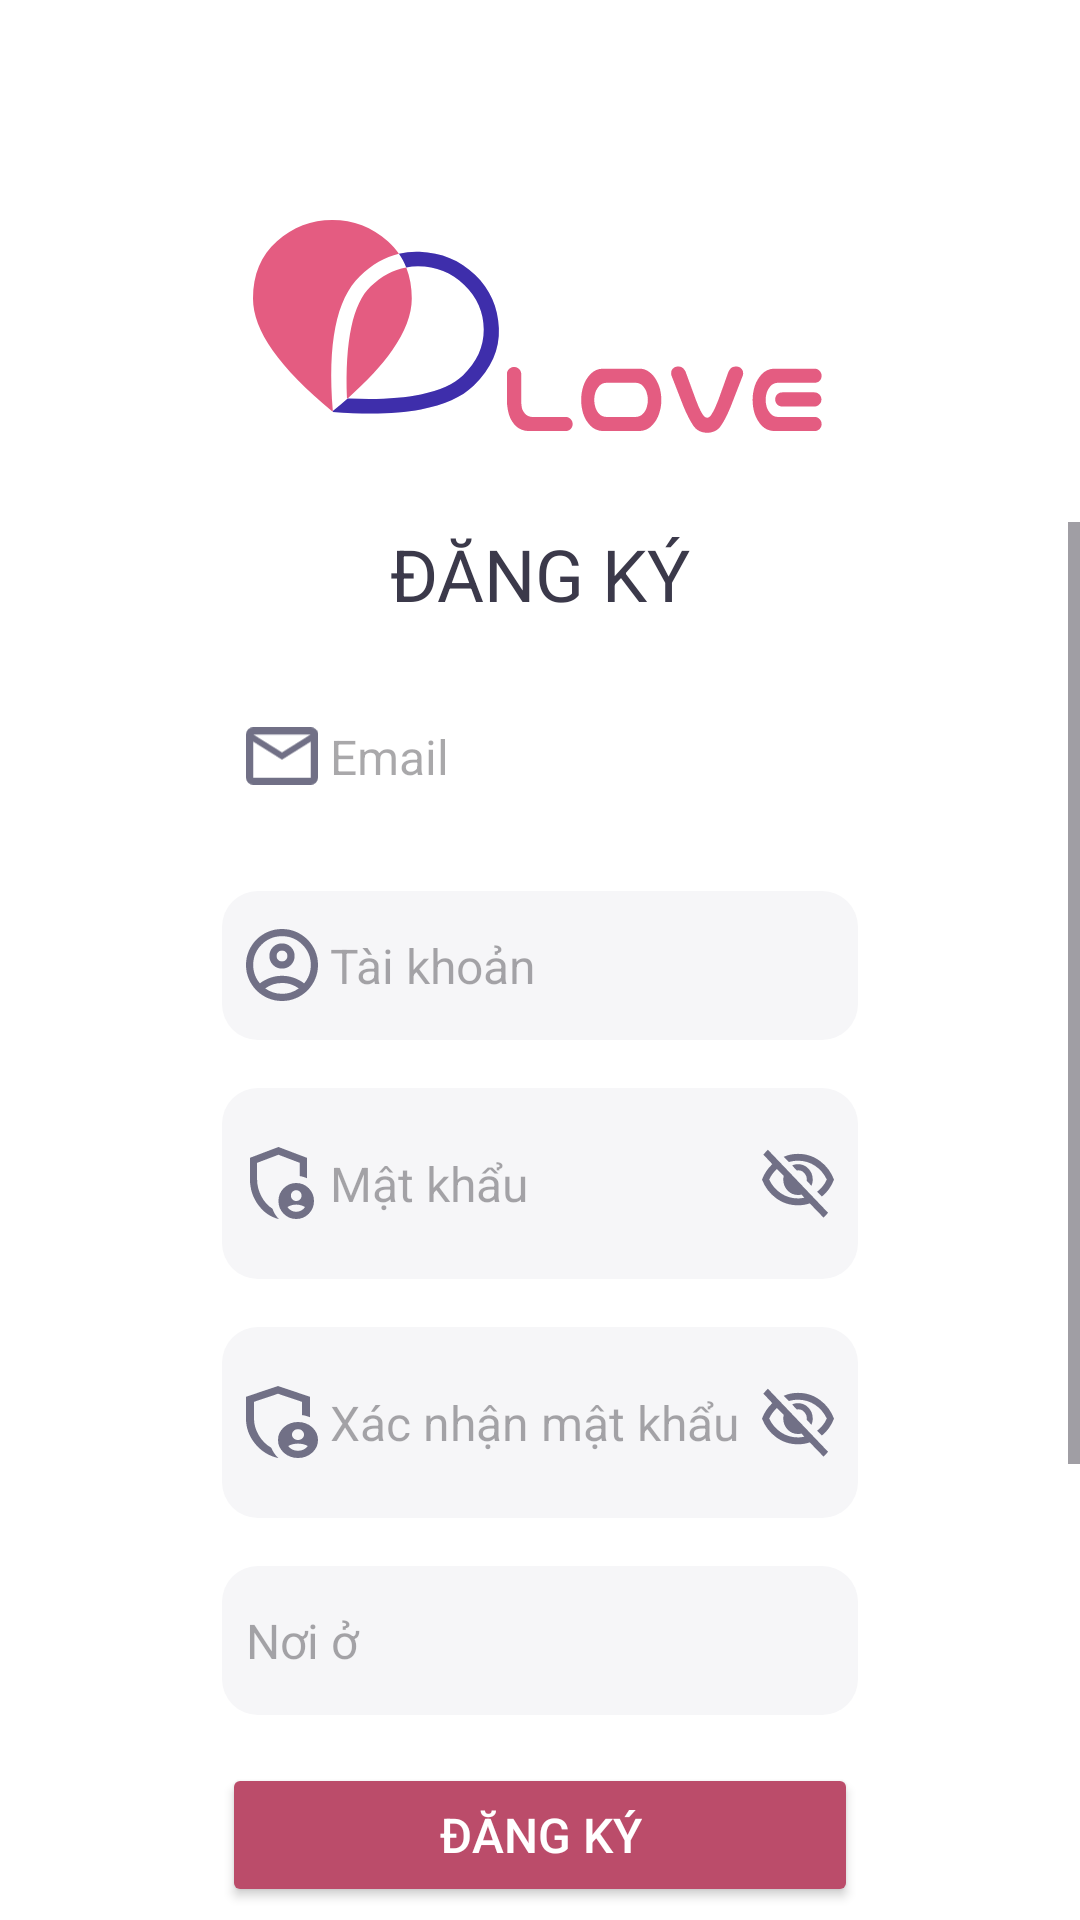

Named icons in this screenshot (1080w x 1920h) and their bounding boxes, (x1, y1, x2, y2):
matdong: (762, 1150, 834, 1218), (762, 1389, 834, 1457)
